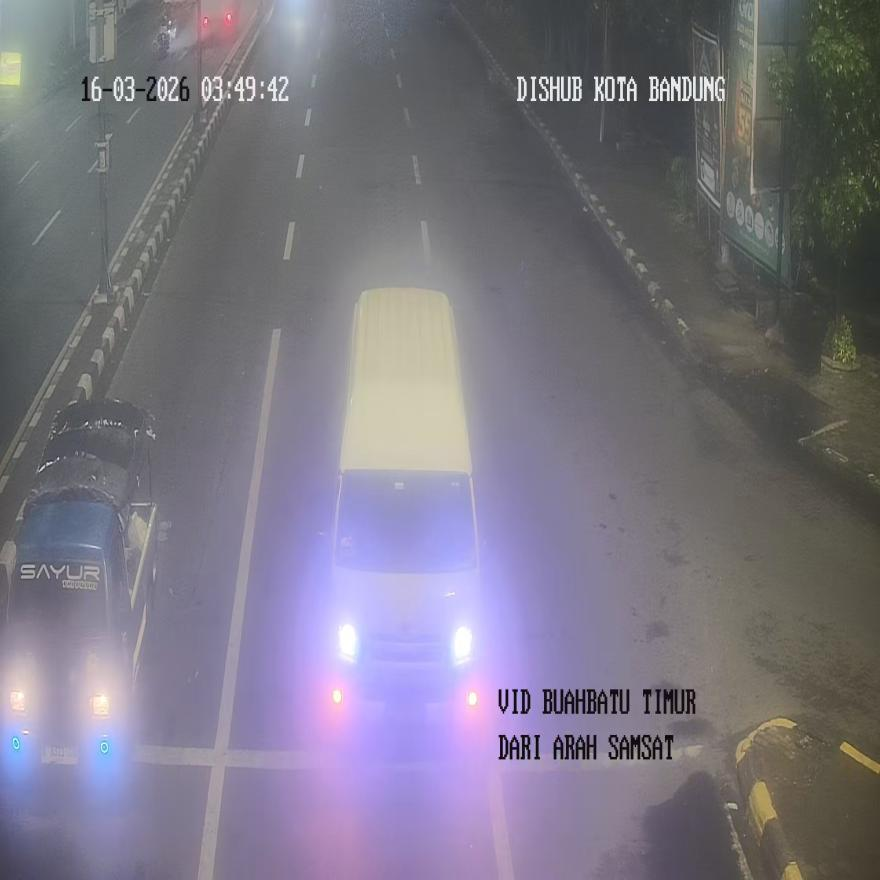Bis: (326, 288, 483, 726)
Motor: (0, 399, 162, 791)
